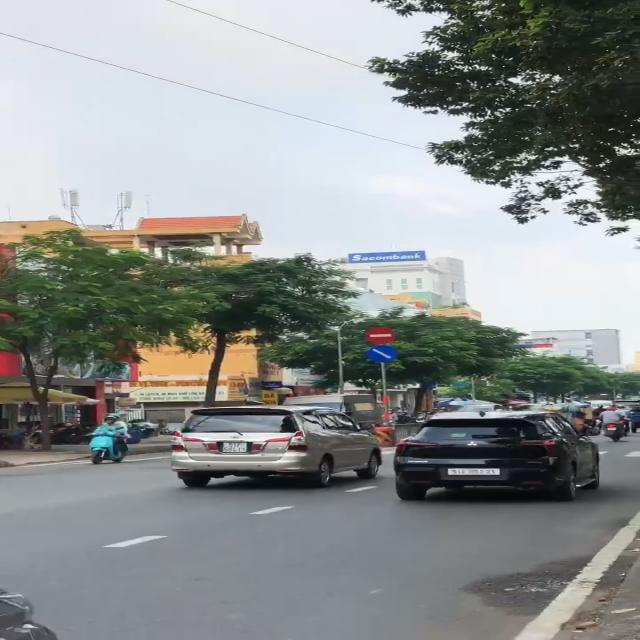Bien bao cam di nguoc chieu: (364, 326, 396, 345)
Bien bao huong phai di vong chuong ngai vat: (364, 345, 404, 364)
